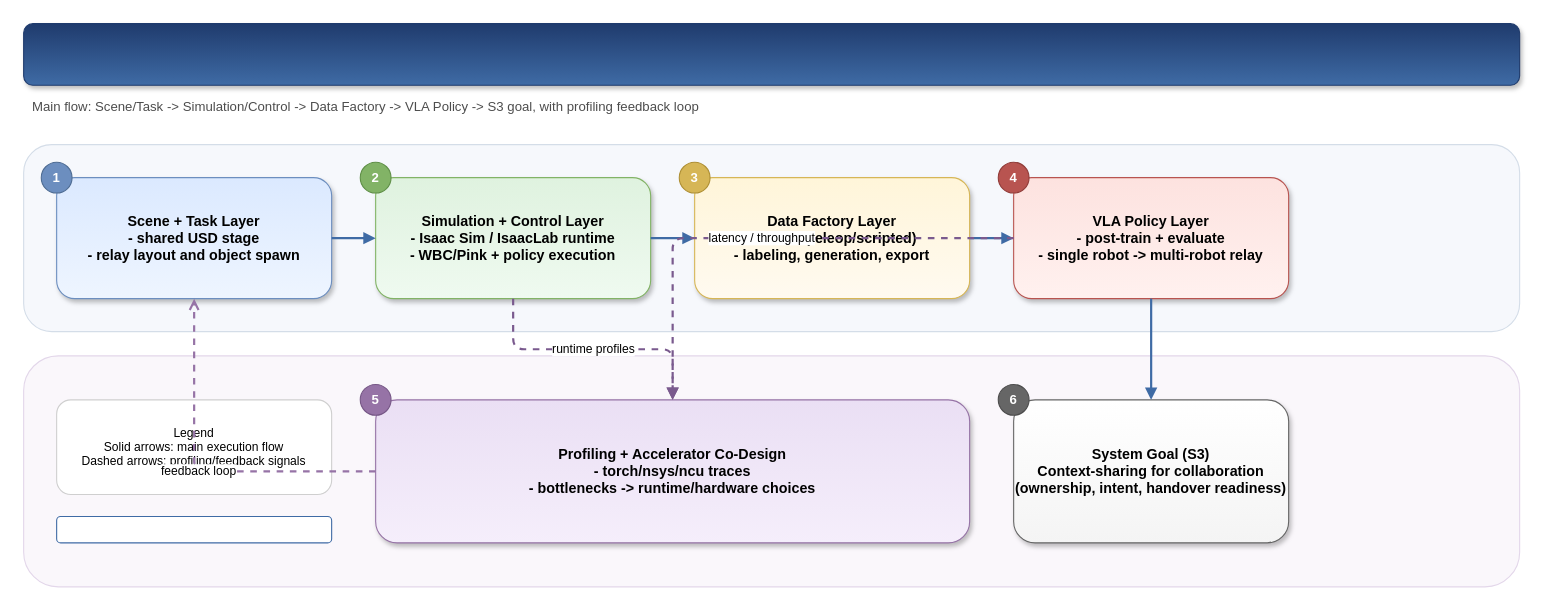
The diagram is 1546 pixels wide and 606 high, and some of its shapes have lost their labels. Each missing label, with the centre of its shape:
"Co-Designed Simulator + VLA + Accelerator Stack (Multi-Robot)" belongs at (772,55).
"KPI Focus: relay success | latency budget | throughput gain" belongs at (194,529).
